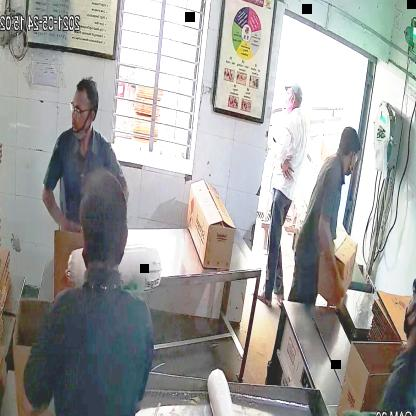goggles: (66, 99, 98, 122)
